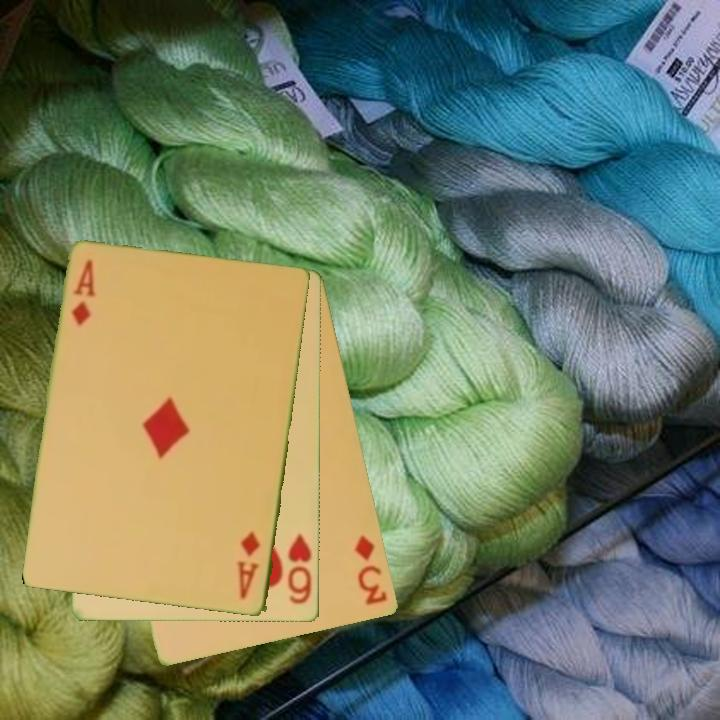3d: (350, 532, 391, 609)
6h: (285, 530, 315, 607)
Ad: (234, 529, 263, 602), (69, 257, 97, 329)
